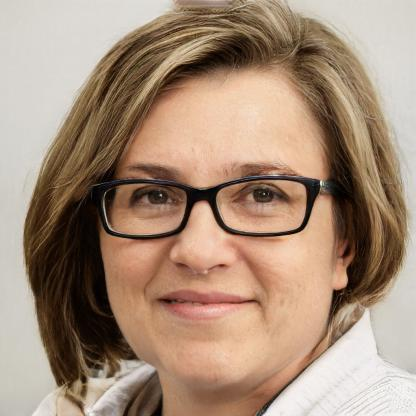glasses: (83, 170, 329, 242)
